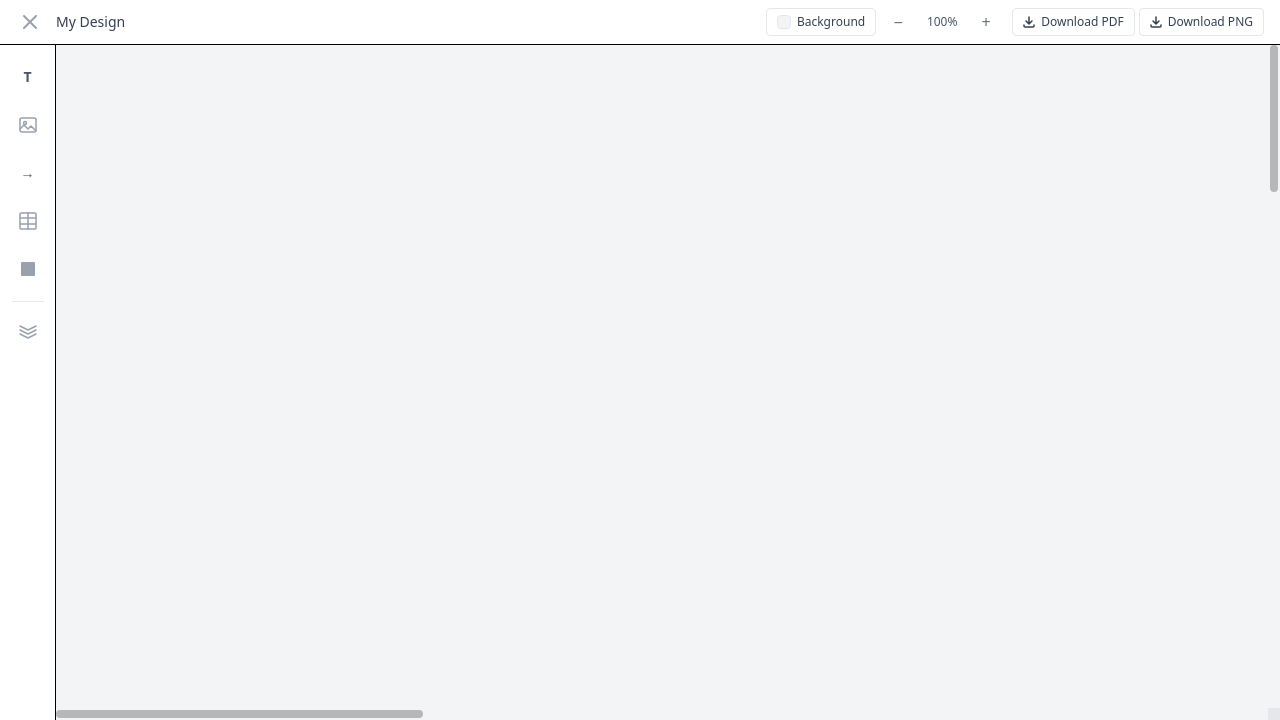
it: AC10 — empty canvas export error › shows an error alert when the canvas has no elements at all
Click the button "Download PNG": (1201, 22) 1139,8 -> 1264,36
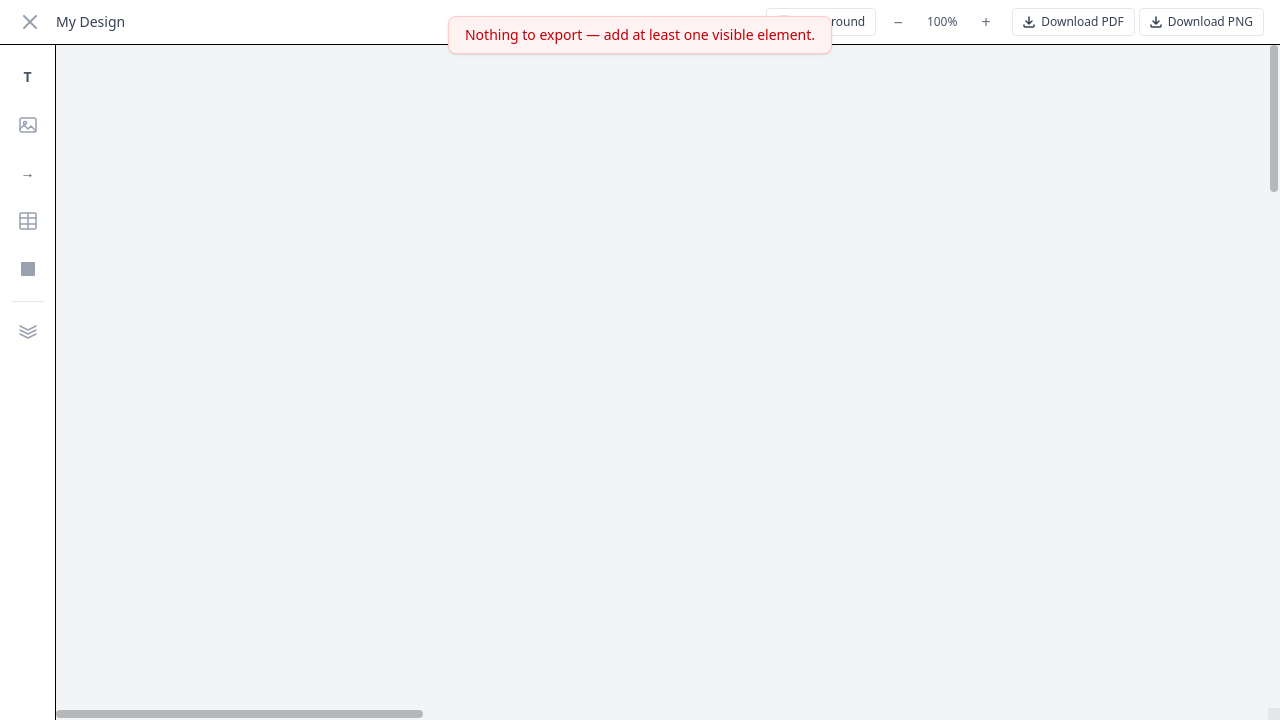
Result: the message shows "Nothing to export" at 465,25 -> 815,44
